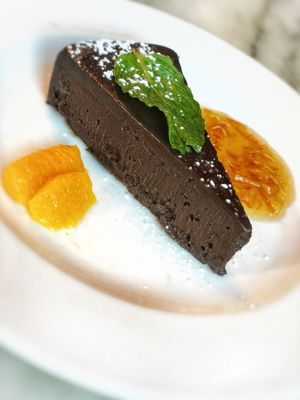soup: (46, 34, 298, 274)
